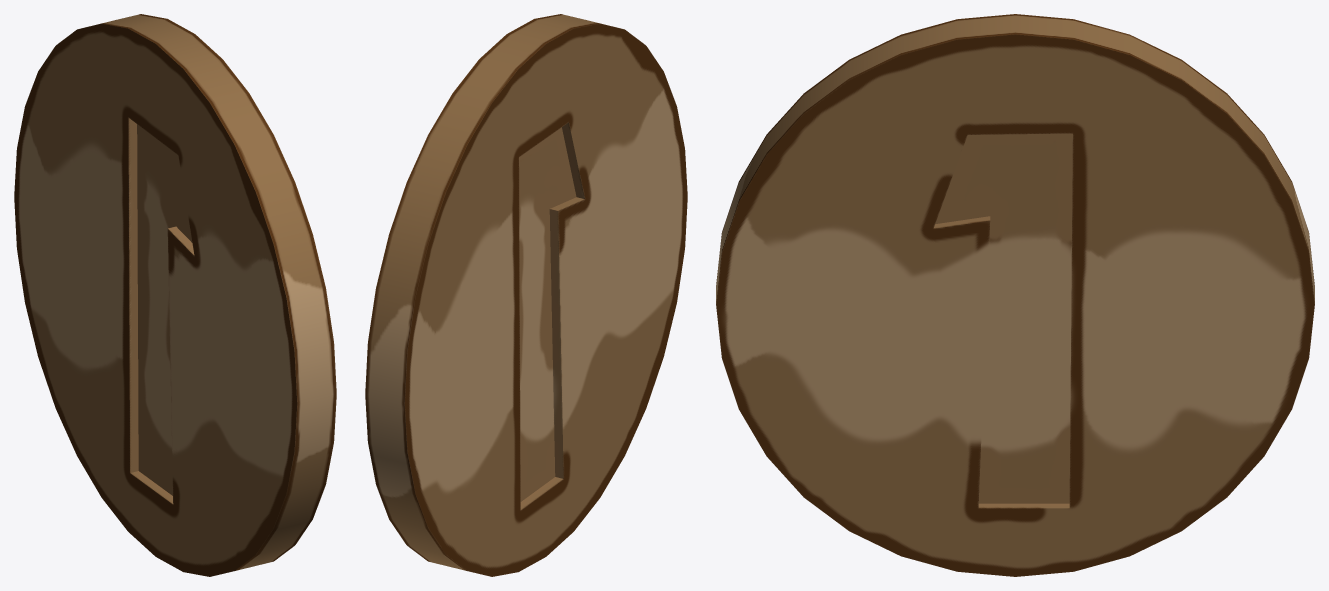
File: PenyHenry.fbx
The picture shows the model from 3 angles, left to right: view 1: azimuth 30°, elevation 25°; view 2: azimuth 150°, elevation 25°; view 3: azimuth 270°, elevation 25°; orthographic projection. The views are drawn at different scales.
Parts seen in each view (by area): view 1: Circle; view 2: Circle; view 3: Circle.
Boxes of the visible parts, x1,y1,x2,y2 form: Circle: (14, 14, 336, 576); Circle: (365, 14, 687, 576); Circle: (716, 14, 1314, 576).
Size of the model in its own units: 22.59 by 280 by 280.
Materials: 1 (1 with a texture image).
